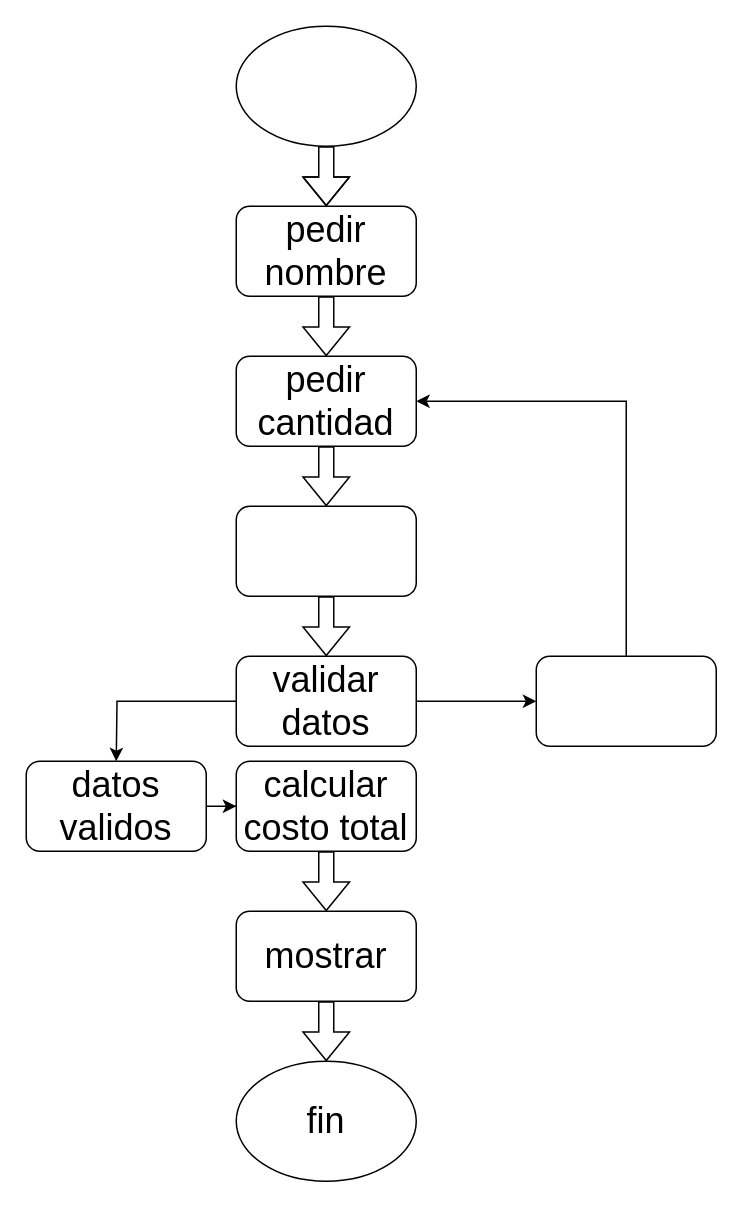
Some shapes in this 743 by 1208 pixel diagram are drawn without their labels. Here are the shapes that lost their labels. From the top down, the box of each, then its label:
(235, 25, 416, 146): inicio
(235, 505, 416, 596): pedir precio
(535, 655, 716, 746): datos invalidos
